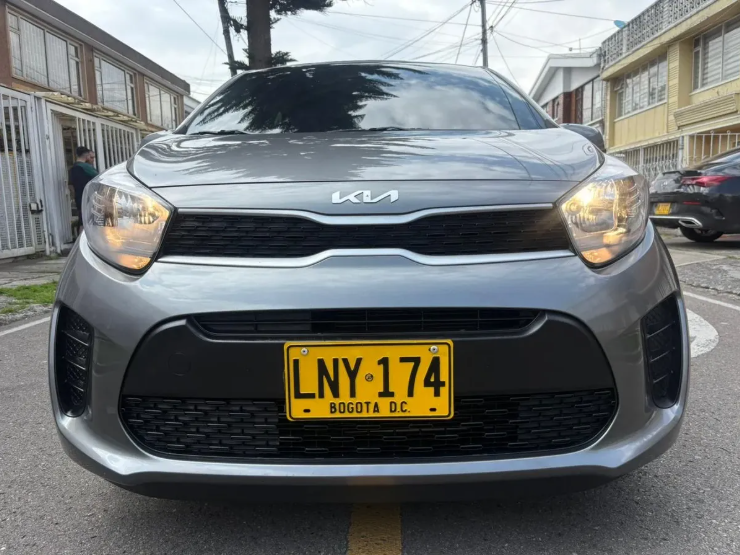placa: (284, 342, 456, 420)
